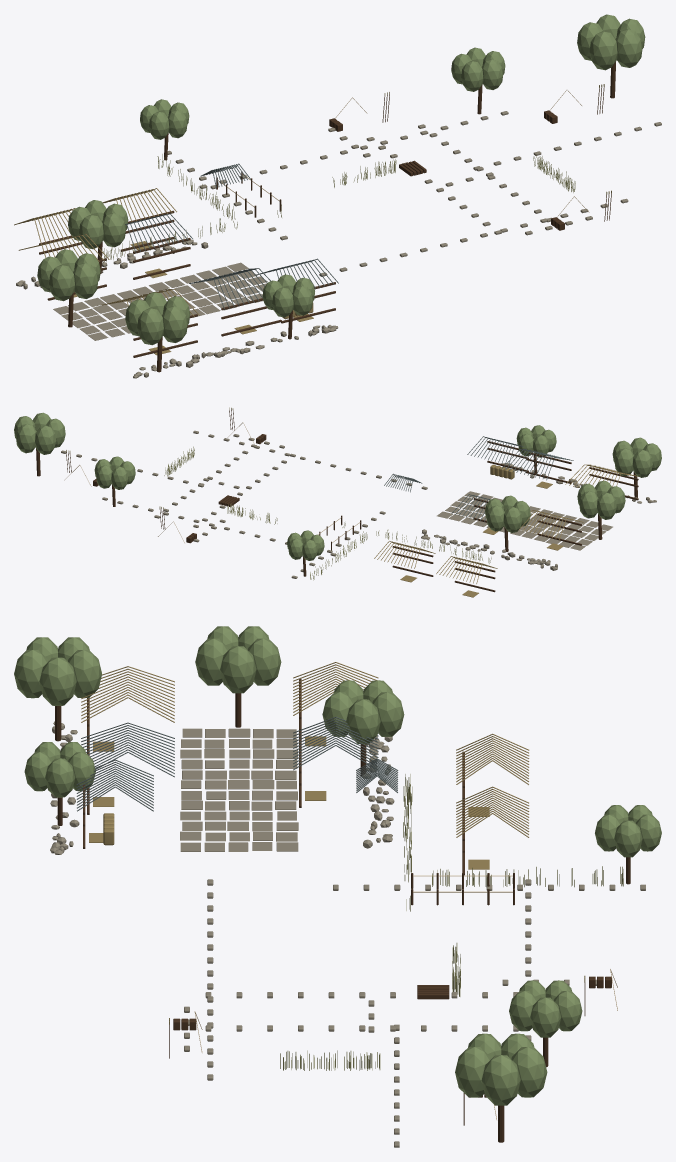
The model's file is SM_Jinyang_Details.fbx.
The picture shows the model from 3 angles, top to bottom: view 1: azimuth 30°, elevation 25°; view 2: azimuth 150°, elevation 25°; view 3: azimuth 270°, elevation 25°; orthographic projection. The views are drawn at different scales.
Parts seen in each view (by area): view 1: SM_Jinyang_Details; view 2: SM_Jinyang_Details; view 3: SM_Jinyang_Details.
Part boxes in pixels (<box>): SM_Jinyang_Details: <box>14,14,661,378</box>; SM_Jinyang_Details: <box>14,407,661,597</box>; SM_Jinyang_Details: <box>14,626,661,1147</box>.
Size of the model in its own units: 5031 by 686 by 3057.
